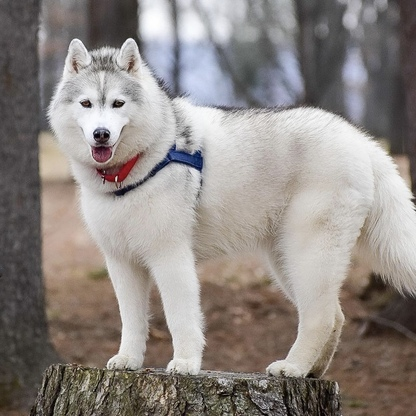husky: (40, 31, 416, 382)
